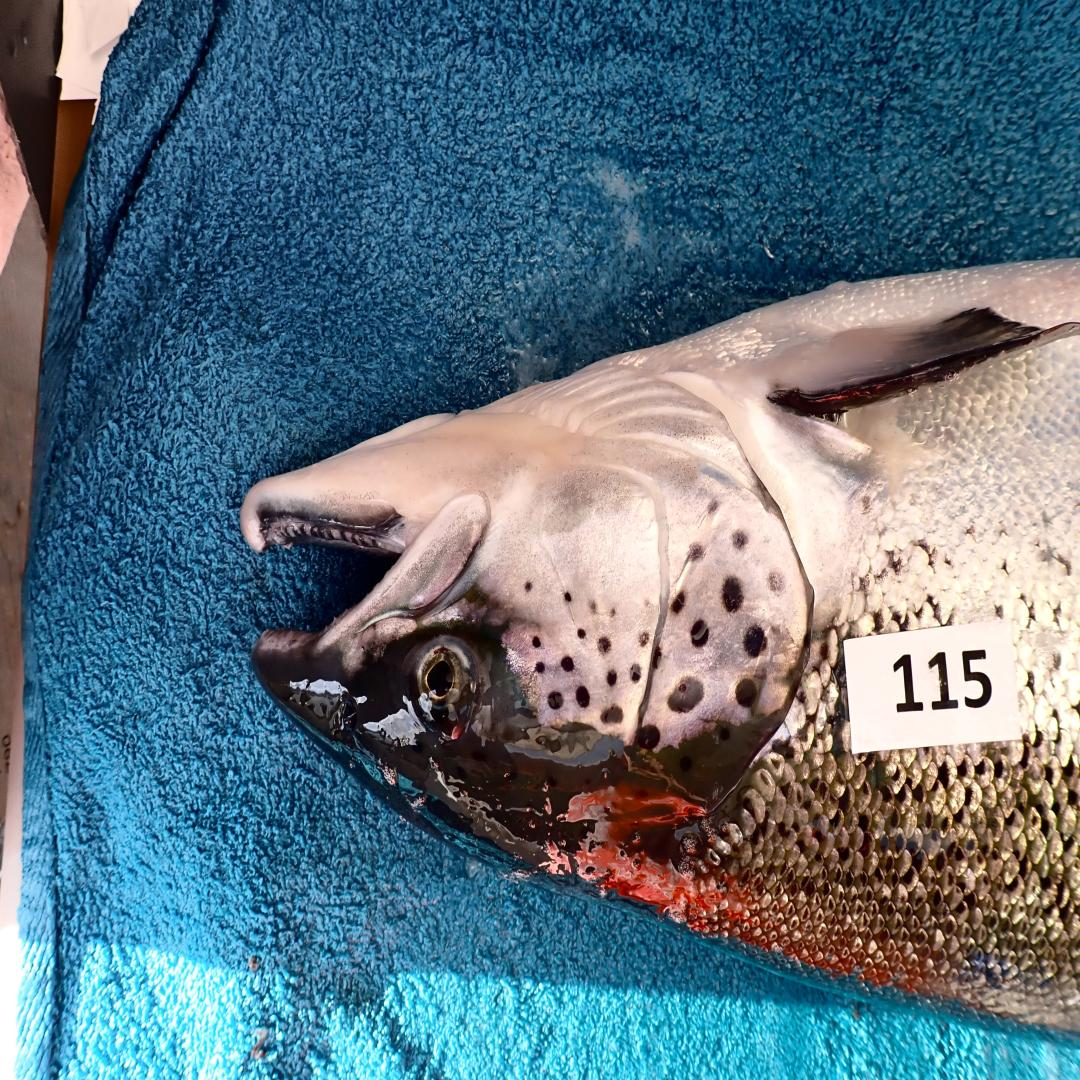spot: (667, 678, 705, 712), (734, 678, 759, 709), (721, 577, 742, 613), (745, 624, 766, 658), (637, 726, 660, 751), (690, 619, 709, 647), (601, 706, 622, 726), (730, 529, 749, 551), (768, 571, 785, 593), (686, 543, 705, 562), (576, 686, 591, 709), (671, 591, 686, 613), (705, 498, 721, 518), (597, 636, 612, 655), (548, 692, 563, 709), (637, 630, 650, 647), (561, 655, 574, 672), (652, 647, 662, 669), (641, 596, 654, 610), (608, 669, 618, 686), (631, 664, 641, 681), (523, 579, 534, 593), (589, 599, 597, 616), (563, 591, 572, 605), (532, 636, 542, 647), (536, 661, 544, 672), (578, 627, 586, 638), (608, 608, 616, 619)
